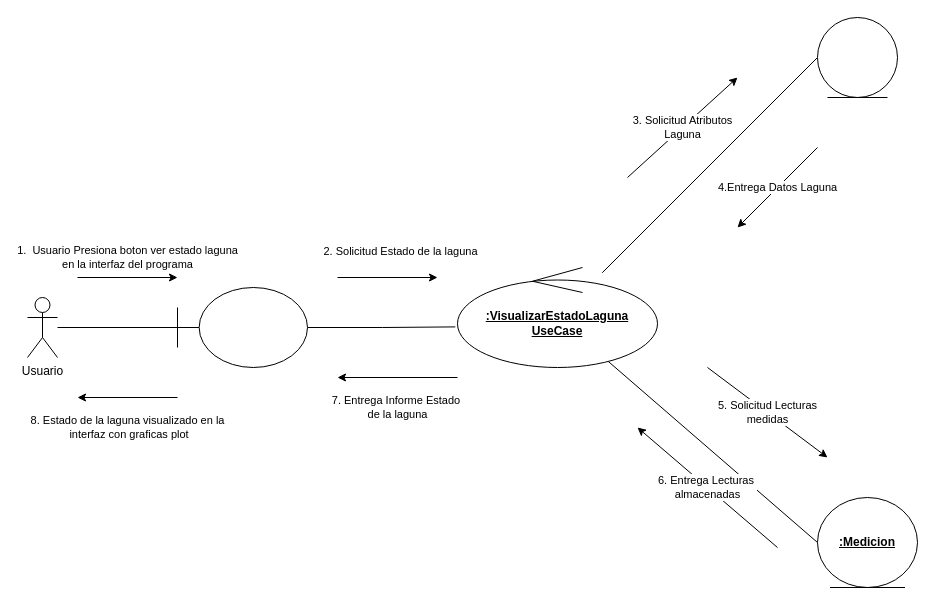
Some shapes in this 935 by 605 pixel diagram are drawn without their labels. Each missing label, with the centre of its shape:
:EstadoLaguna Panel: the point at 242,327
:Variable: the point at 857,57
